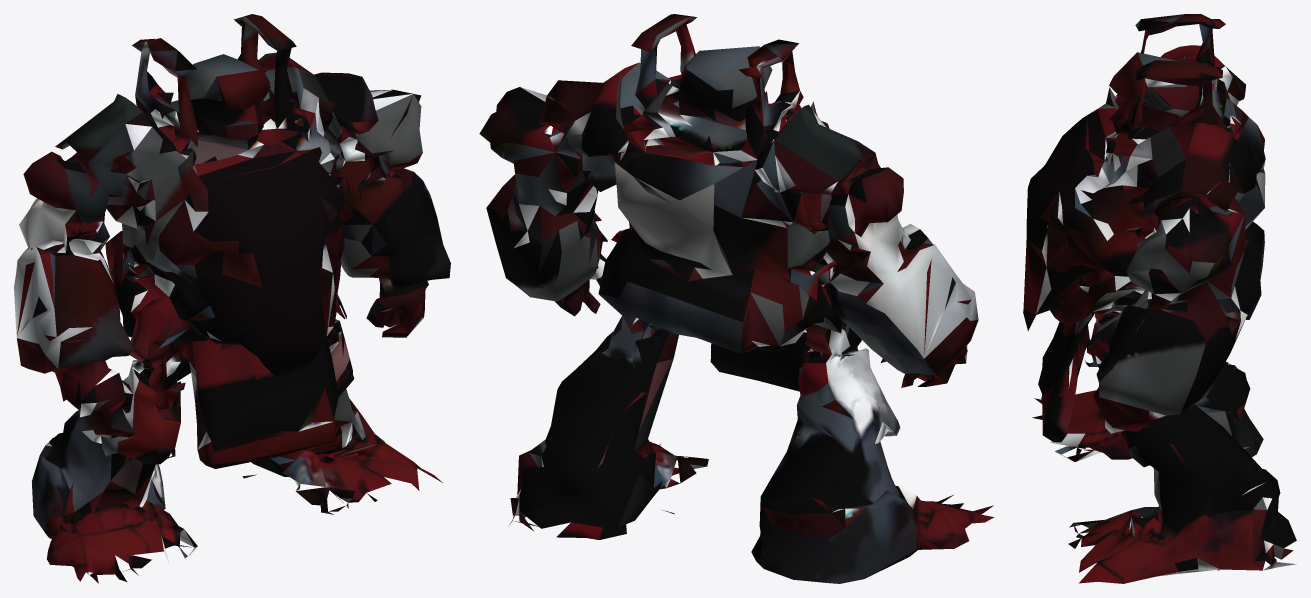
Rendered from slag_bulwark.glb.
The picture shows the model from 3 angles, left to right: view 1: azimuth 30°, elevation 25°; view 2: azimuth 150°, elevation 25°; view 3: azimuth 270°, elevation 25°; orthographic projection. The views are drawn at different scales.
Parts seen in each view (by area): view 1: LP_baked; view 2: LP_baked; view 3: LP_baked.
Part boxes in pixels (x1=…): LP_baked: x1=14, y1=14, x2=450, y2=583; LP_baked: x1=479, y1=14, x2=994, y2=583; LP_baked: x1=1023, y1=14, x2=1296, y2=583.
Bounding box in the file's own units: 1.82 × 1.92 × 1.04.
1 material, 1 textured.
